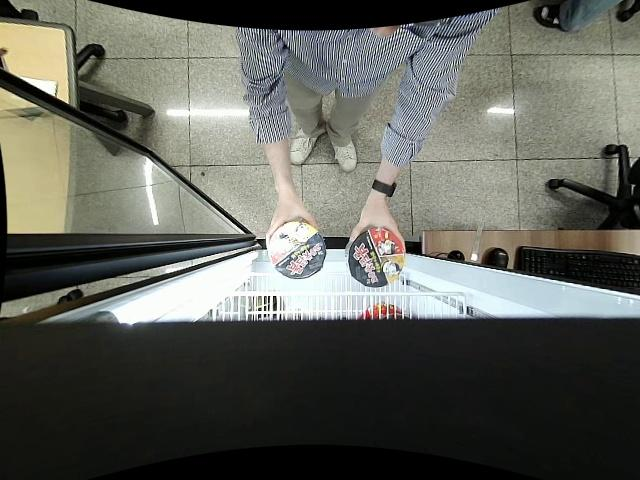00_hand: (345, 205, 405, 256), (266, 200, 316, 249)
07_buldak_L: (347, 226, 406, 286), (268, 220, 327, 278)
